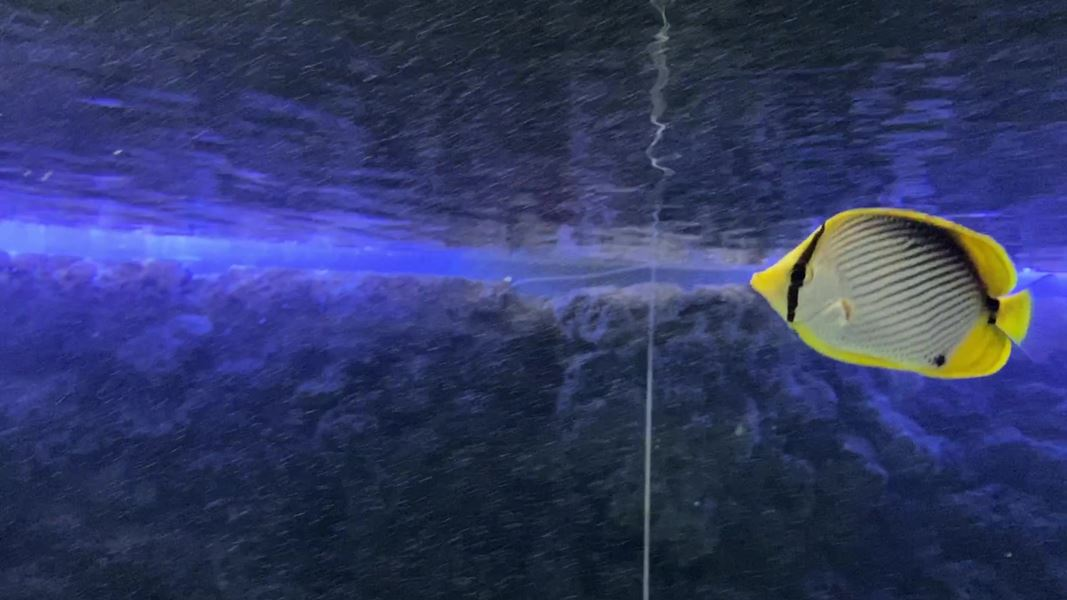Black-backed butterflyfish: (736, 196, 1067, 390)
